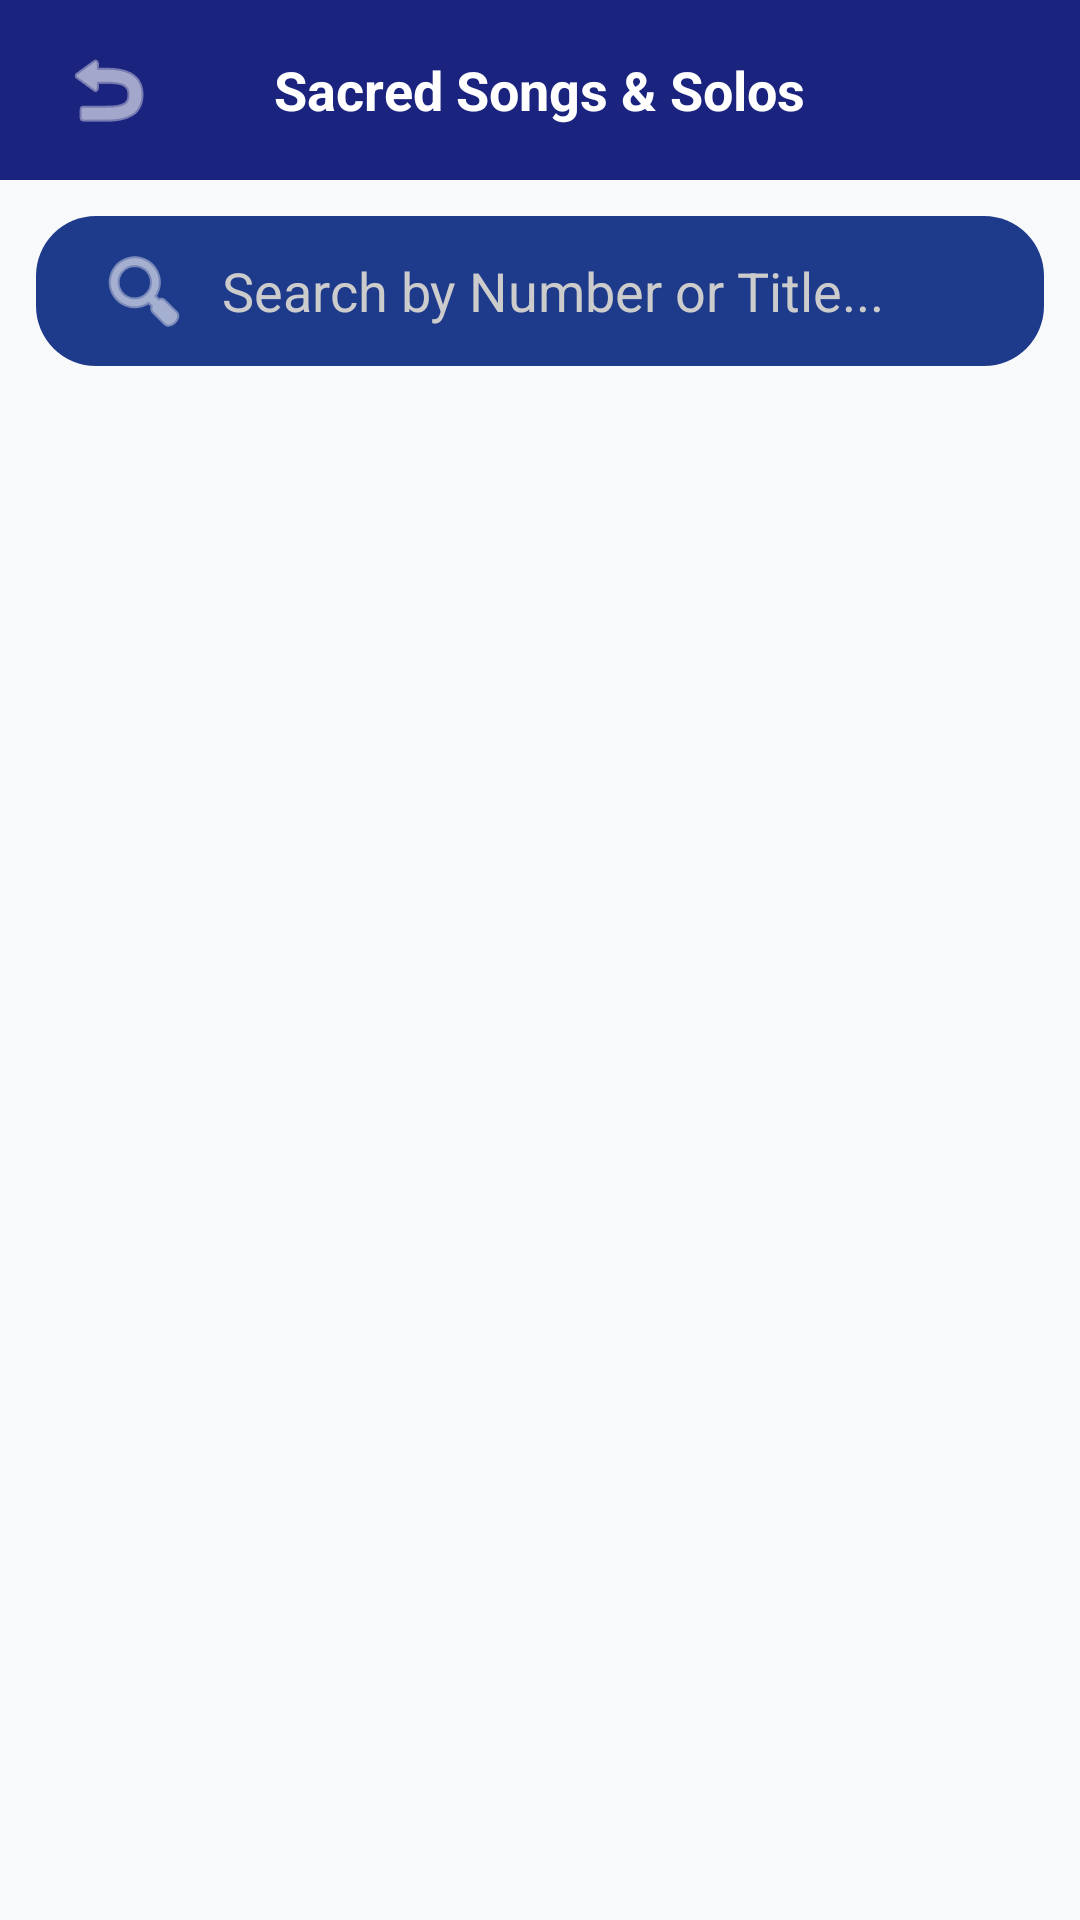

Named icons in this screenshot (1080×1920) and their bounding boxes, (x1, y1, x2, y2):
revert: (75, 59, 144, 122)
